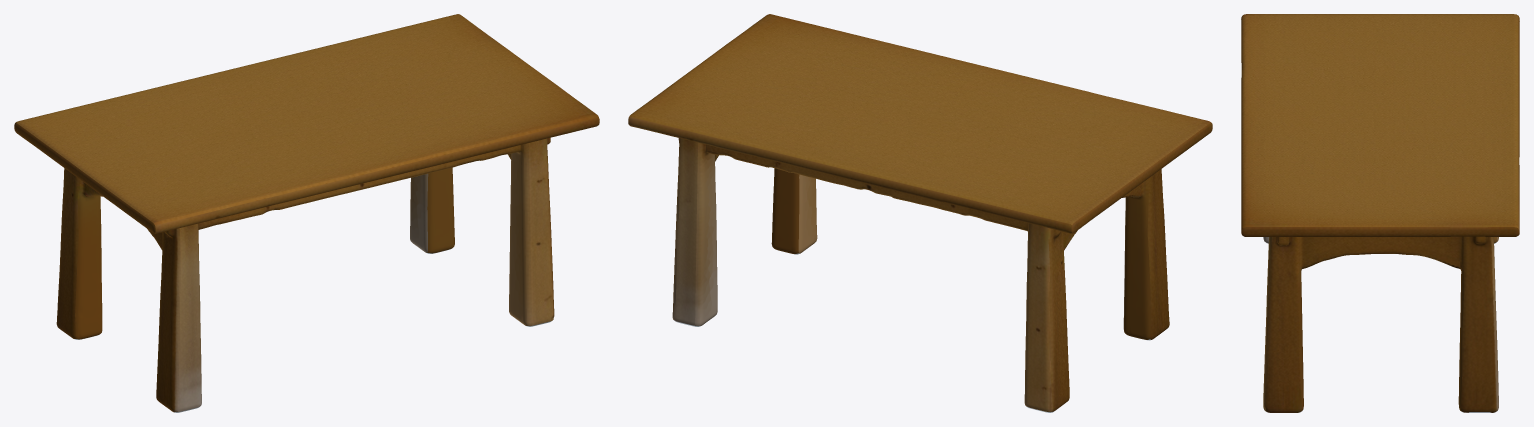
File: desk__desk#4.glb
3 renders of one model, left to right at view 1: azimuth 30°, elevation 25°; view 2: azimuth 150°, elevation 25°; view 3: azimuth 270°, elevation 25°, orthographic.
Parts seen in each view (by area): view 1: tmpksuf8ky2.ply; view 2: tmpksuf8ky2.ply; view 3: tmpksuf8ky2.ply.
Part boxes in pixels (x1,y1,x2,y2): tmpksuf8ky2.ply: (14, 14, 599, 412); tmpksuf8ky2.ply: (628, 14, 1212, 412); tmpksuf8ky2.ply: (1241, 14, 1519, 412).
Size of the model in its own units: 1.99 by 0.8849 by 1.1.
Materials: 1 (1 with a texture image).
